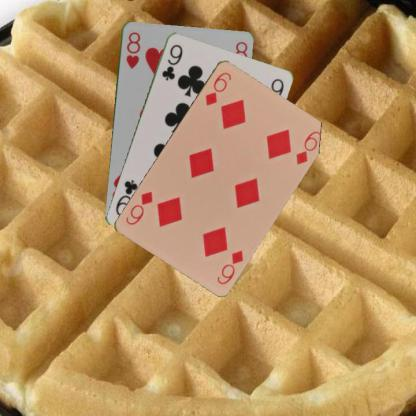6d: (202, 69, 233, 107), (214, 248, 245, 286)
8h: (123, 29, 142, 71)
9c: (159, 42, 184, 82)
